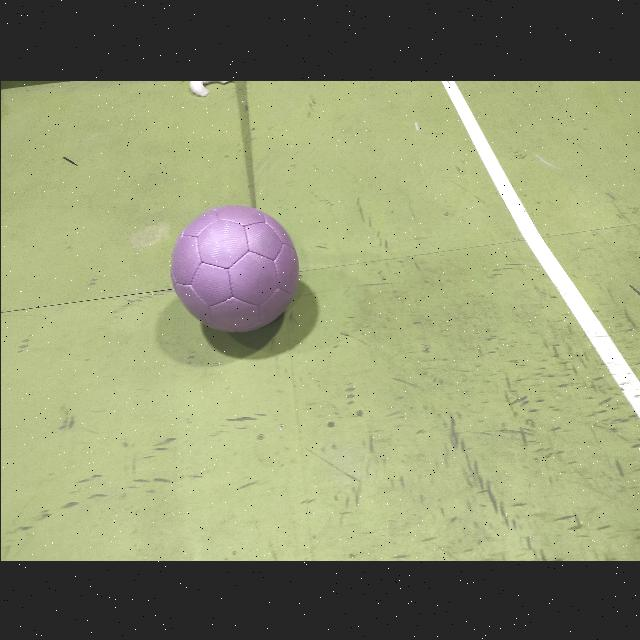P: (171, 204, 297, 330)
